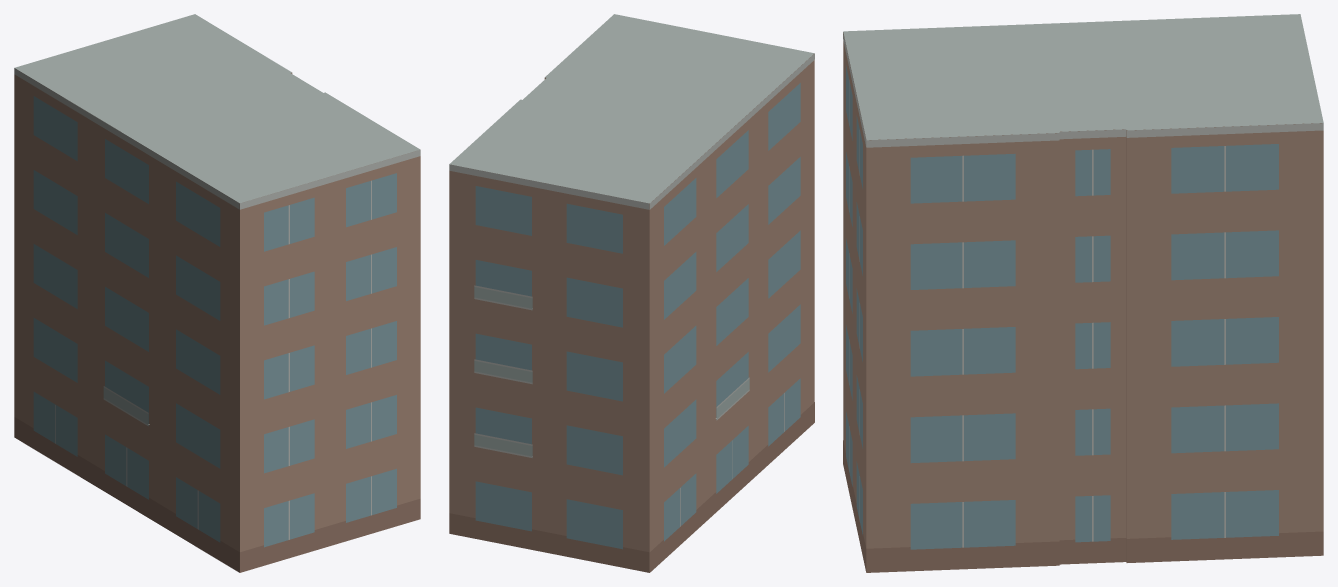
Rendered from survey-upis-32746679.glb.
3 renders of one model, left to right at view 1: azimuth 30°, elevation 25°; view 2: azimuth 150°, elevation 25°; view 3: azimuth 270°, elevation 25°, orthographic. The views are drawn at different scales.
Parts seen in each view (by area): view 1: survey-upis-32746679.tmp; view 2: survey-upis-32746679.tmp; view 3: survey-upis-32746679.tmp.
Part boxes in pixels (x1,y1,x2,y2): survey-upis-32746679.tmp: (14,14,420,572); survey-upis-32746679.tmp: (449,14,814,572); survey-upis-32746679.tmp: (843,14,1323,572).
Size of the model in its own units: 8.8 by 14.05 by 14.16.
